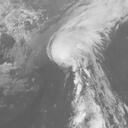cyclone: (46, 27, 102, 73)
